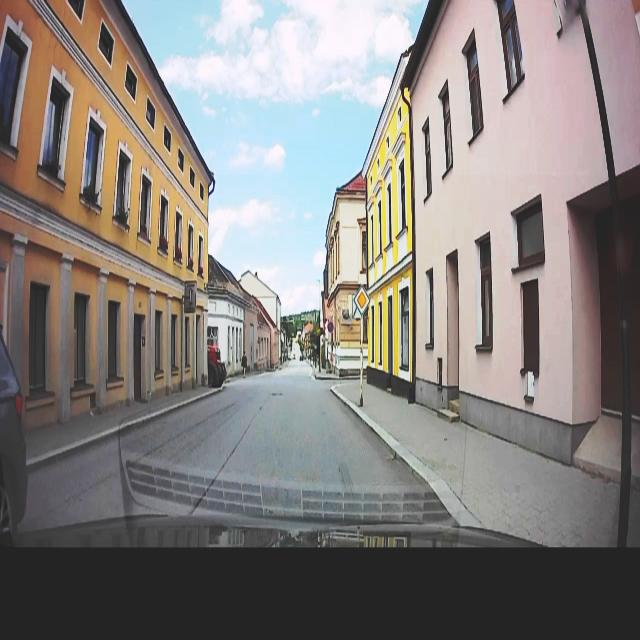Priority road: (352, 282, 372, 317)
